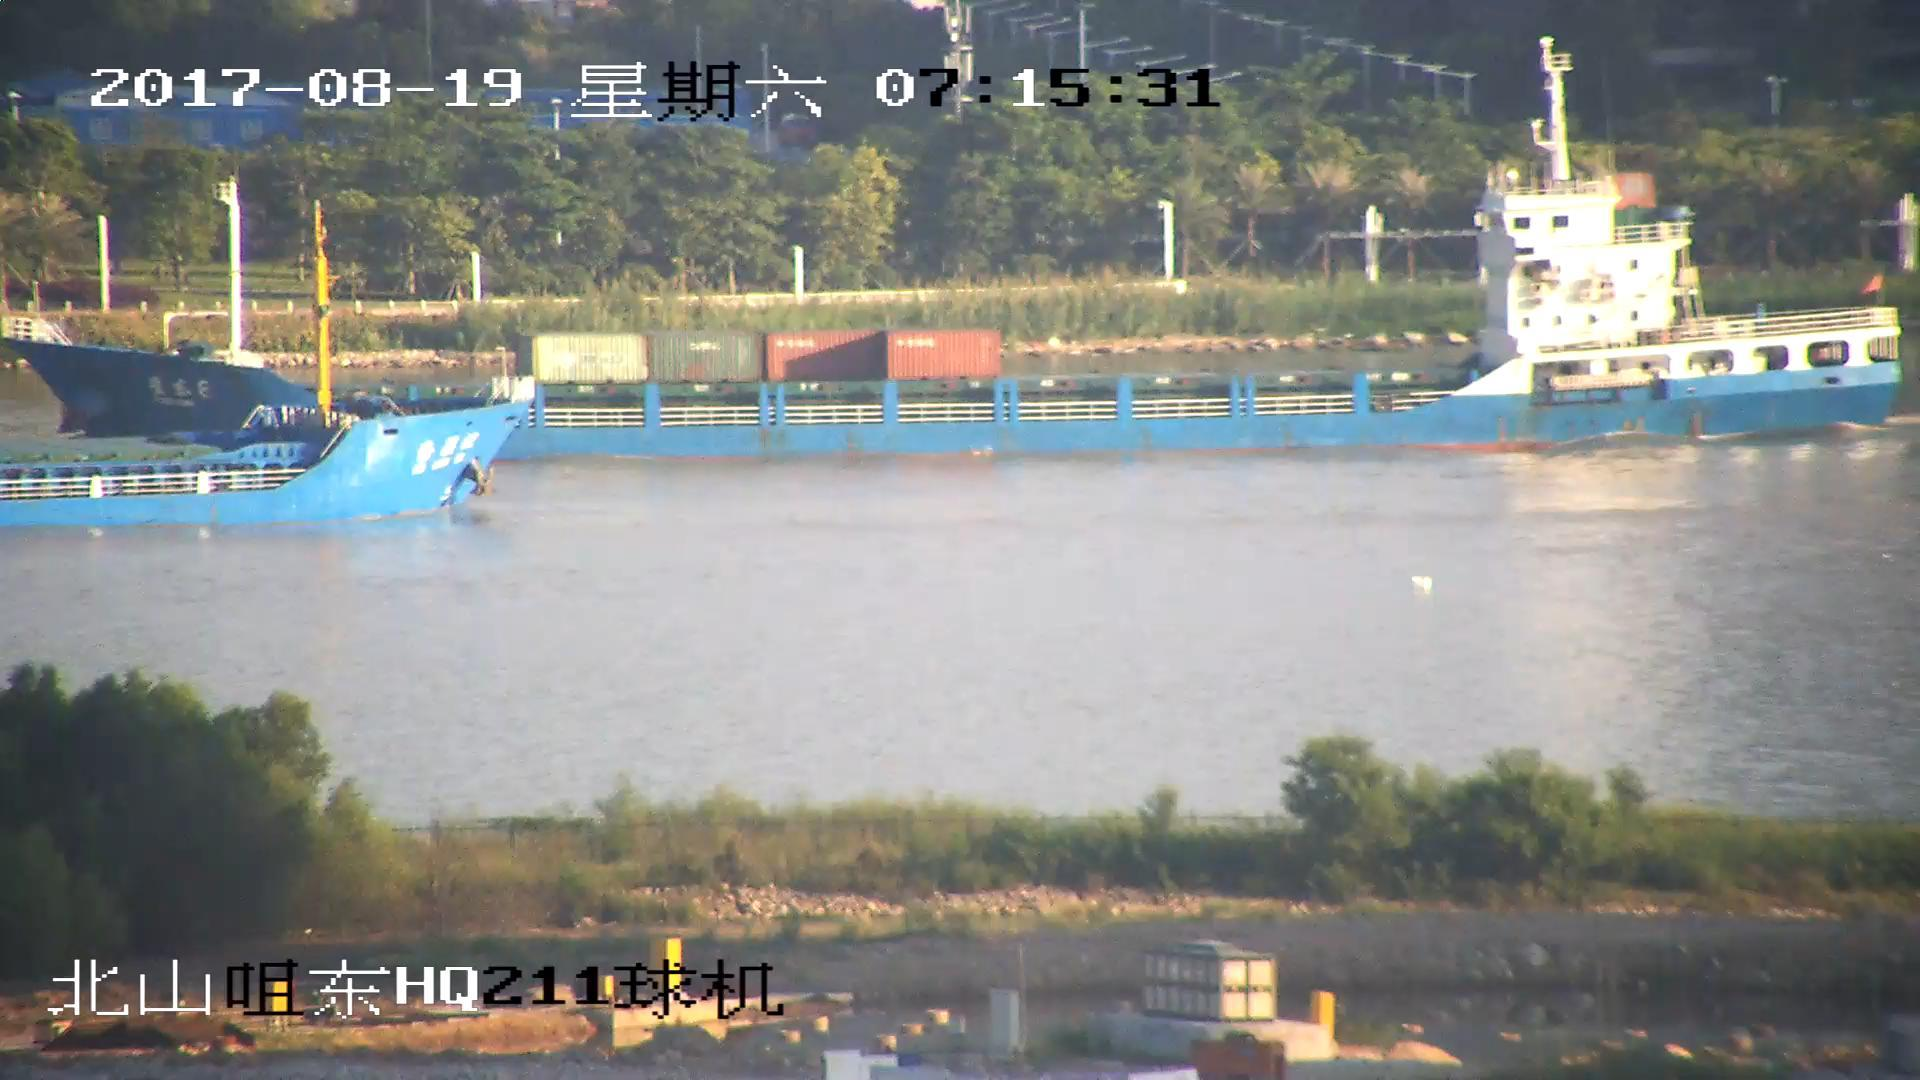Ship: (3, 109, 1905, 463), (3, 195, 533, 534)
